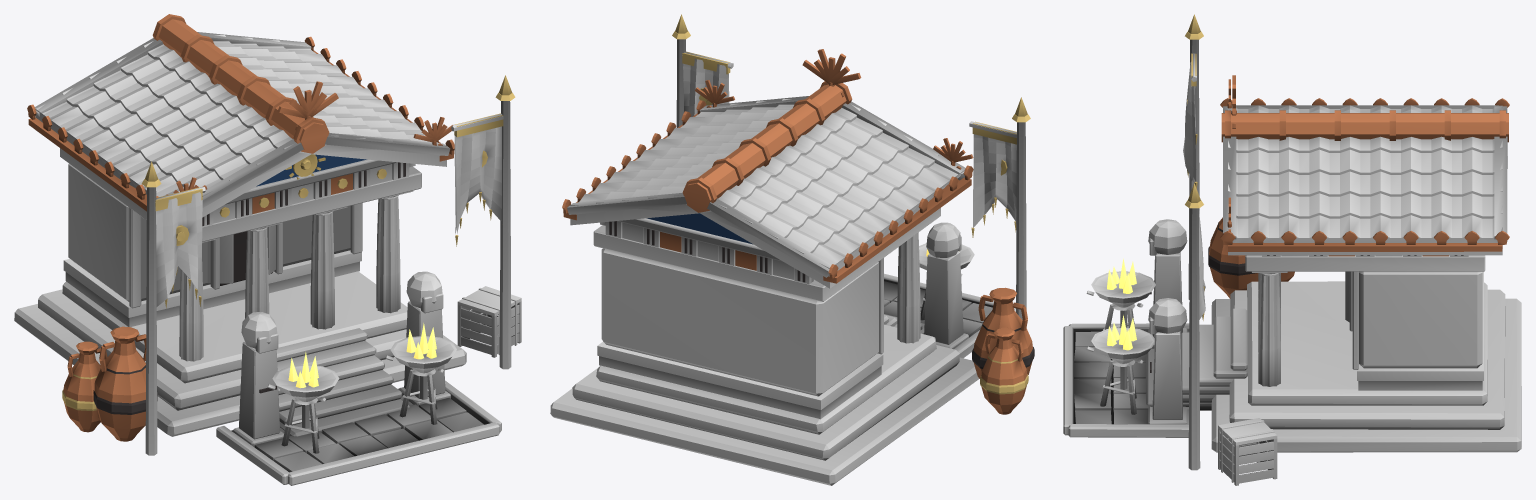
The model's file is polis-hall-l1.glb.
3 views of the same model, side by side, from view 1: azimuth 30°, elevation 25°; view 2: azimuth 150°, elevation 25°; view 3: azimuth 270°, elevation 25° (orthographic). The views are drawn at different scales.
Parts seen in each view (by area): view 1: polis-hall-l1; view 2: polis-hall-l1; view 3: polis-hall-l1.
Part boxes in pixels (left/top/right/bottom): polis-hall-l1: left=14, top=14, right=521, bottom=485; polis-hall-l1: left=550, top=14, right=1034, bottom=485; polis-hall-l1: left=1063, top=14, right=1521, bottom=485.
Size of the model in its own units: 1.5 by 1.03 by 1.39.
